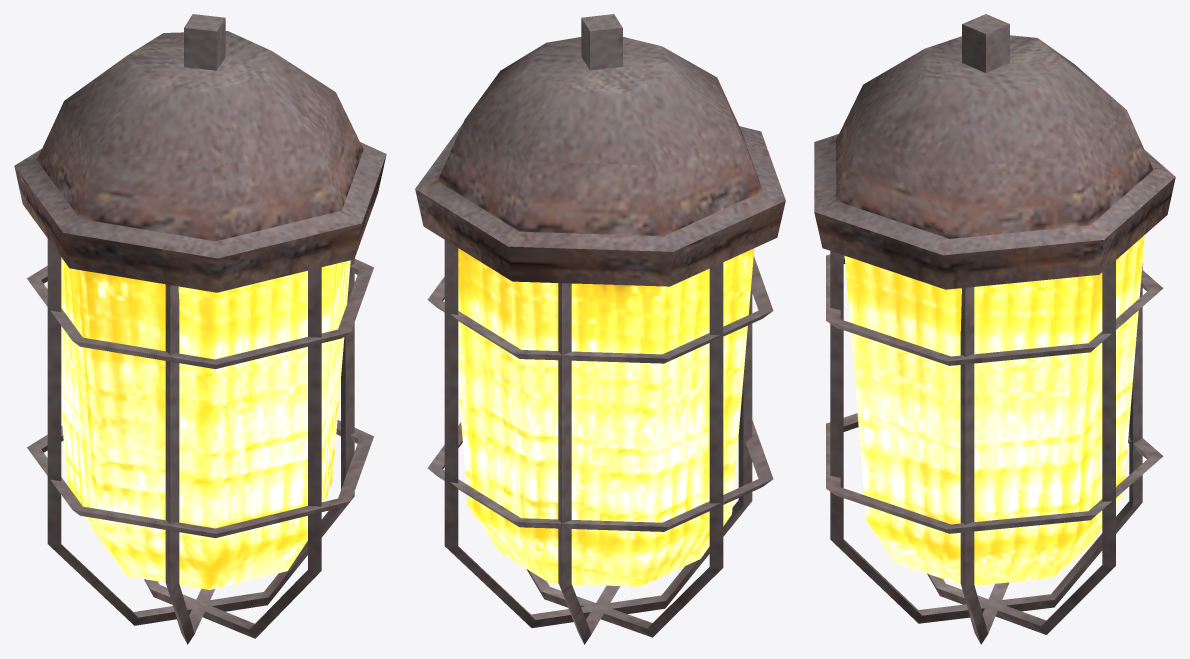
Rendered from Lamp.fbx.
3 views of the same model, side by side, from view 1: azimuth 30°, elevation 25°; view 2: azimuth 150°, elevation 25°; view 3: azimuth 270°, elevation 25° (orthographic).
Visible parts, largest first — view 1: Lamp; view 2: Lamp; view 3: Lamp.
Part boxes in pixels (x1,y1,x2,y2): Lamp: [14, 14, 386, 644]; Lamp: [415, 14, 785, 644]; Lamp: [814, 14, 1175, 644].
Size of the model in its own units: 20.58 by 36.21 by 20.06.
